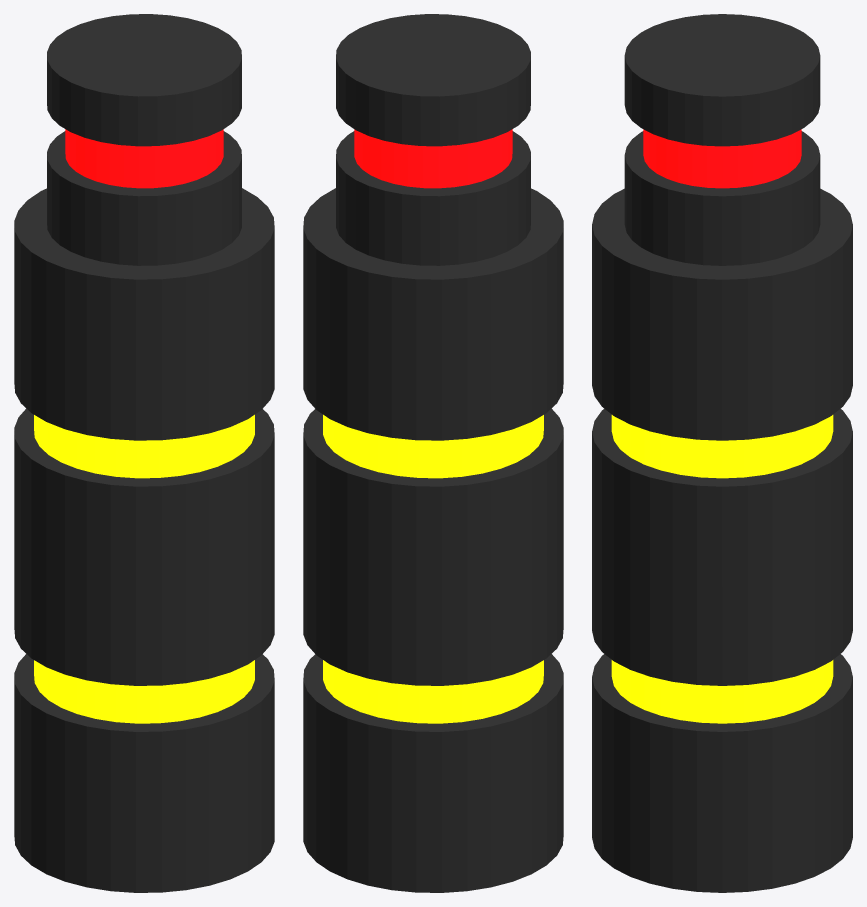
The model's file is Obstacle01.fbx.
3 views of the same model, side by side, from view 1: azimuth 30°, elevation 25°; view 2: azimuth 150°, elevation 25°; view 3: azimuth 270°, elevation 25° (orthographic).
Parts seen in each view (by area): view 1: SmasherBase.001, SmasherSmash.001; view 2: SmasherBase.001, SmasherSmash.001; view 3: SmasherBase.001, SmasherSmash.001.
Part boxes in pixels (box(x1,y1,x2,y2)): SmasherBase.001: box(14, 188, 274, 892); SmasherSmash.001: box(47, 14, 241, 265); SmasherBase.001: box(303, 188, 563, 892); SmasherSmash.001: box(336, 14, 530, 265); SmasherBase.001: box(592, 188, 852, 892); SmasherSmash.001: box(624, 14, 820, 265).
Size of the model in its own units: 577 by 1910 by 577.
